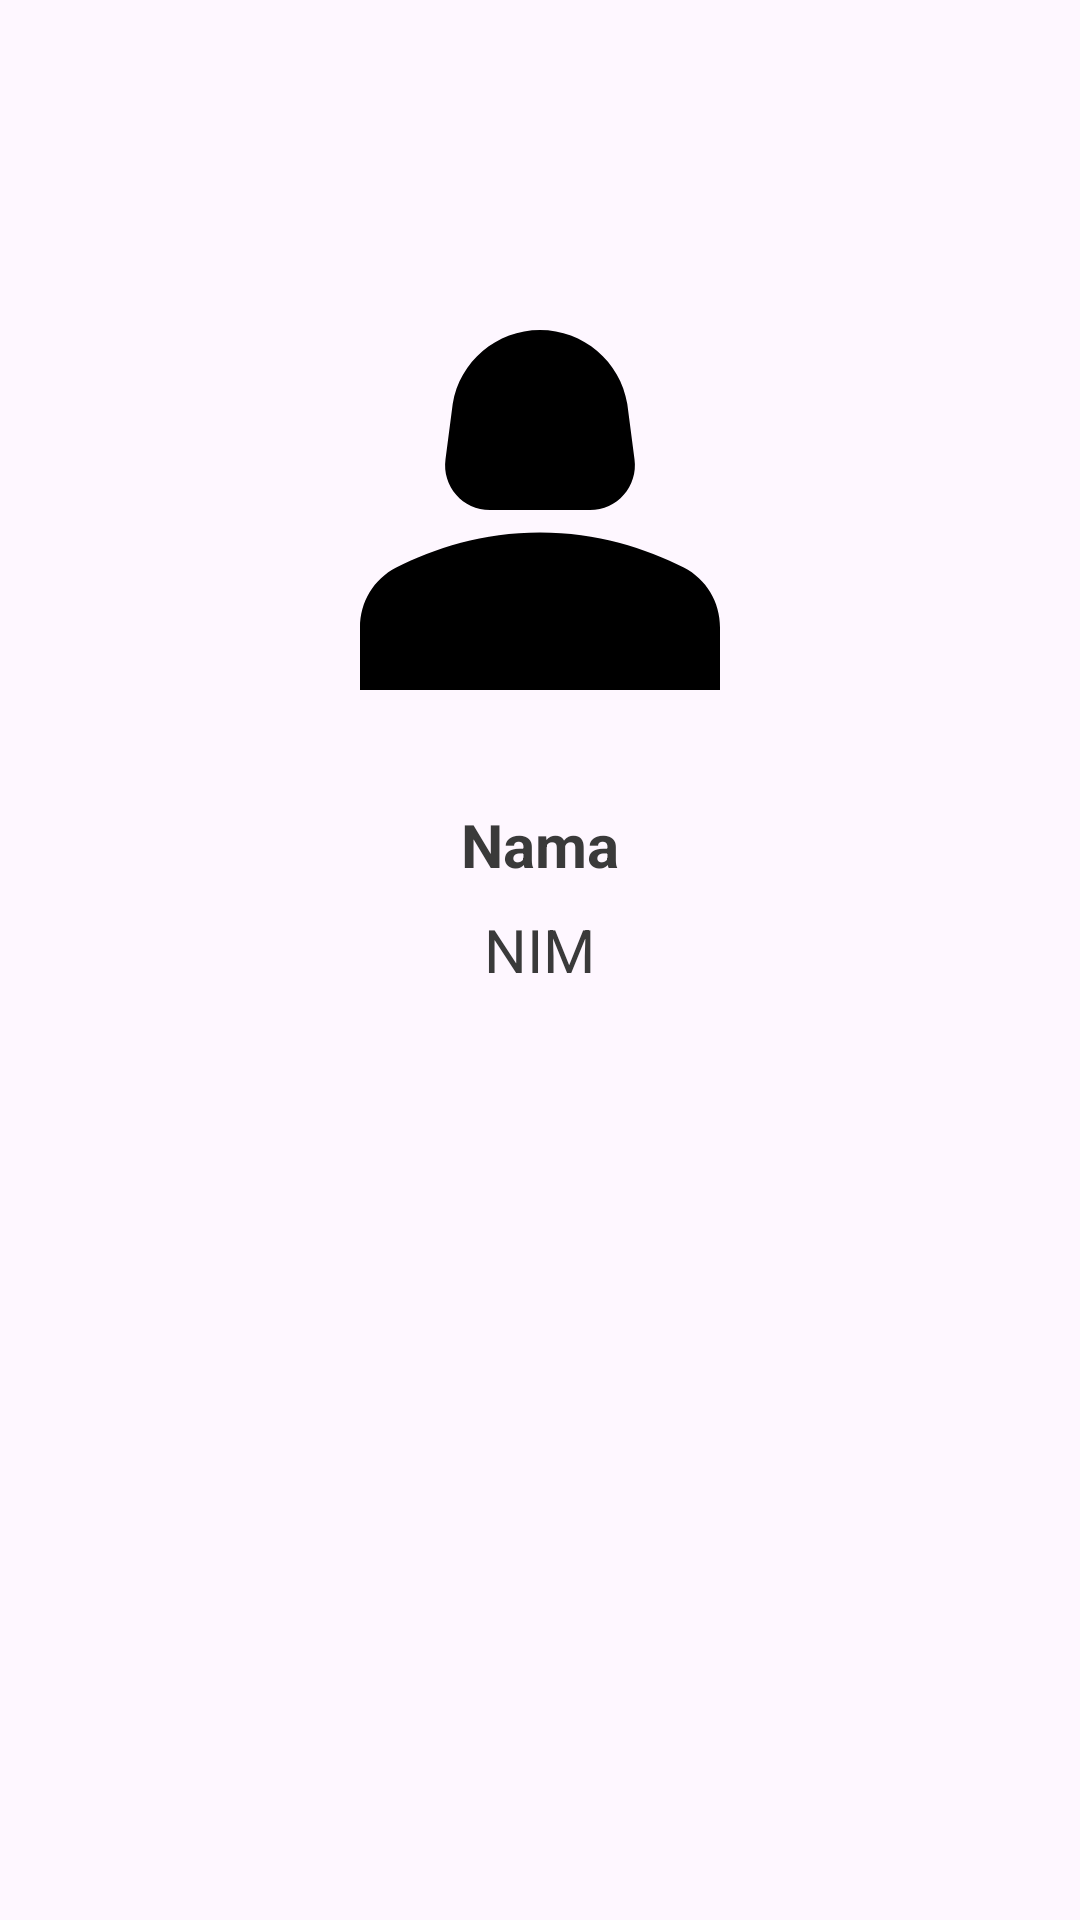

Icons on this 1080 × 1920 Android screen, each with the point to tap as point (x, y):
person: point (540, 510)
